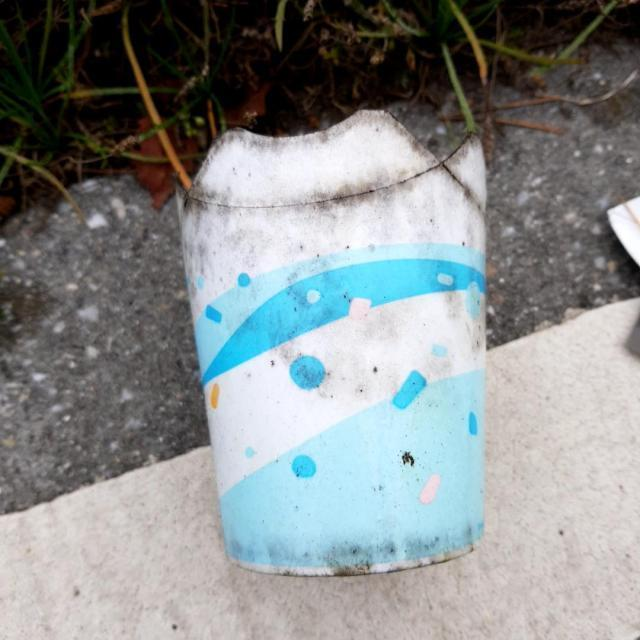Paper: (172, 103, 492, 582)
